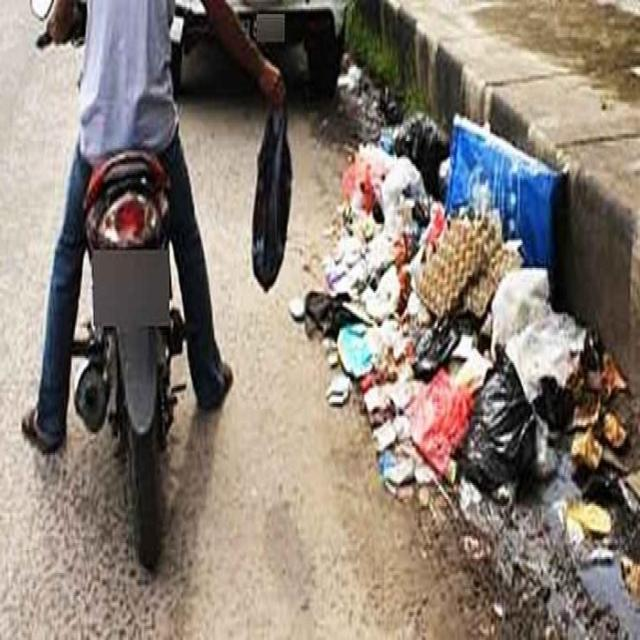sampah-detection: (302, 105, 632, 570), (250, 81, 295, 300)
